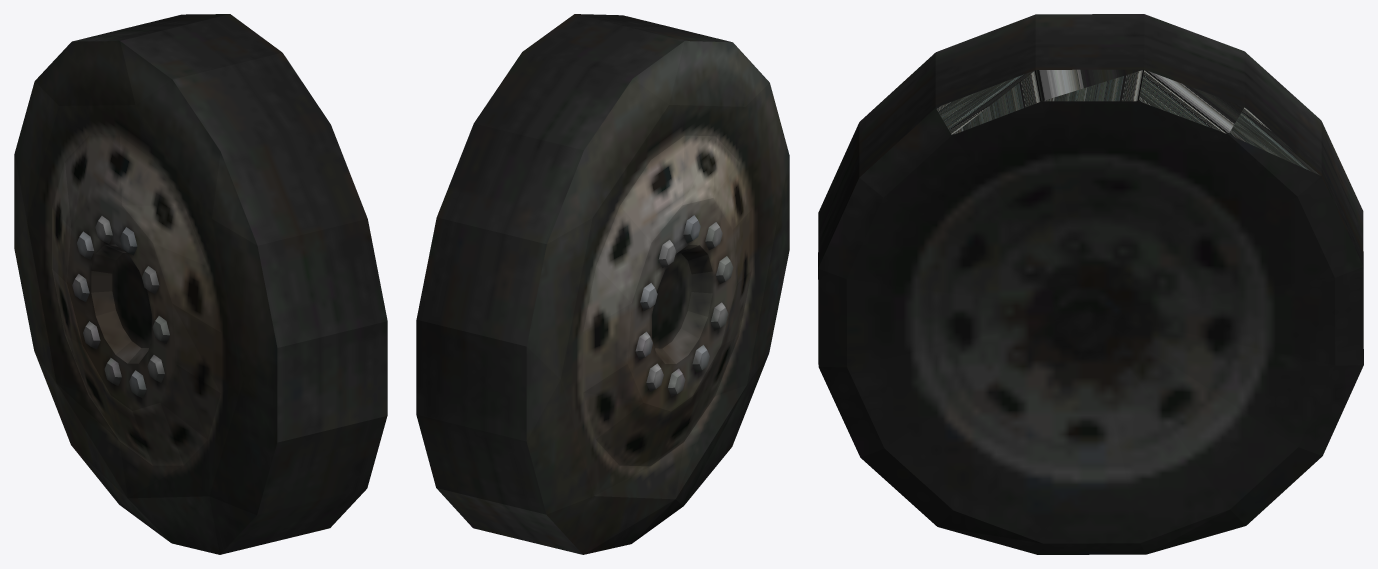
Rendered from single_wheel.obj.
The picture shows the model from 3 angles, left to right: view 1: azimuth 30°, elevation 25°; view 2: azimuth 150°, elevation 25°; view 3: azimuth 270°, elevation 25°; orthographic projection. The views are drawn at different scales.
Visible parts, largest first — view 1: (null); view 2: (null); view 3: (null).
Part boxes in pixels (x1,y1,x2,y2): (null): [14, 14, 387, 554]; (null): [416, 14, 789, 554]; (null): [818, 14, 1363, 554].
Bounding box in the file's own units: 1.09 × 3.21 × 3.3.
Materials: 2 (2 with a texture image).
